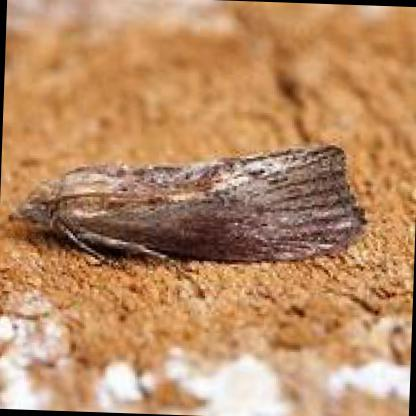plutella: (2, 143, 368, 288)
